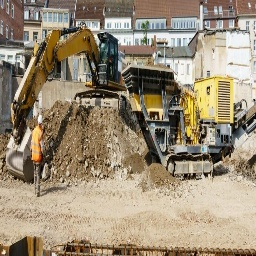helmet: (37, 113, 43, 129)
person: (30, 113, 46, 200)
vest: (32, 126, 42, 162)
